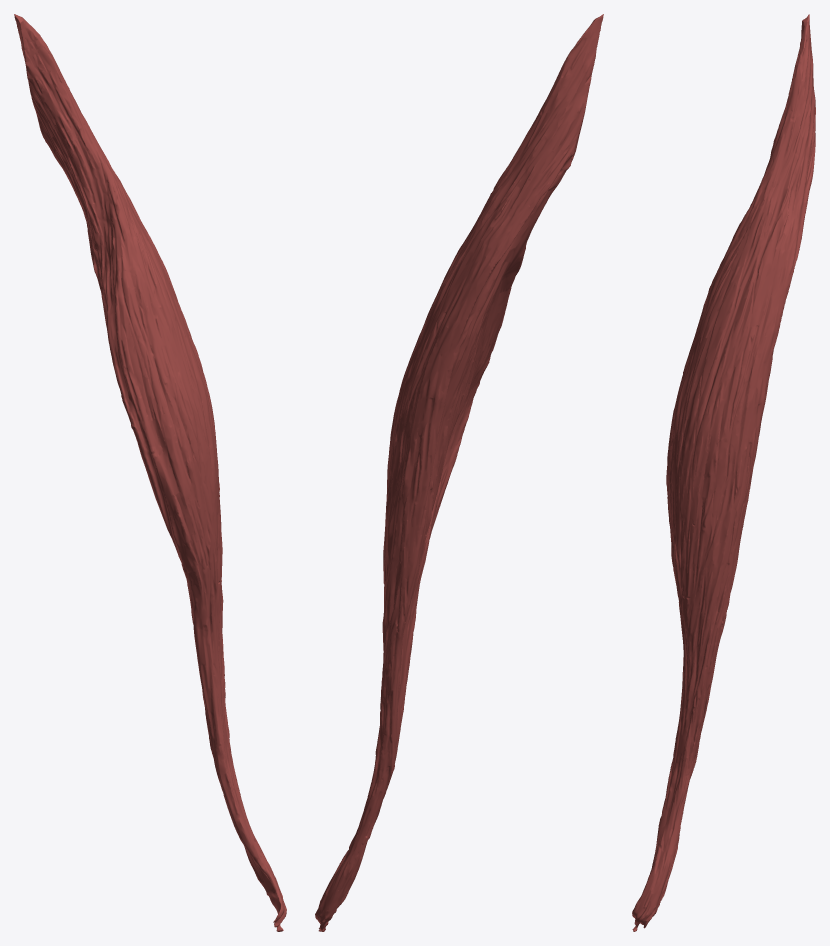
The model's file is FMA38487.glb.
The picture shows the model from 3 angles, left to right: view 1: azimuth 30°, elevation 25°; view 2: azimuth 210°, elevation 25°; view 3: azimuth 270°, elevation 25°; orthographic projection. The views are drawn at different scales.
Parts seen in each view (by area): view 1: FMA38487; view 2: FMA38487; view 3: FMA38487.
Boxes of the visible parts, x1=… form: FMA38487: x1=14, y1=14, x2=286, y2=931; FMA38487: x1=315, y1=14, x2=603, y2=931; FMA38487: x1=632, y1=14, x2=815, y2=931.
Size of the model in its own units: 0.0721 by 0.3378 by 0.0671.
